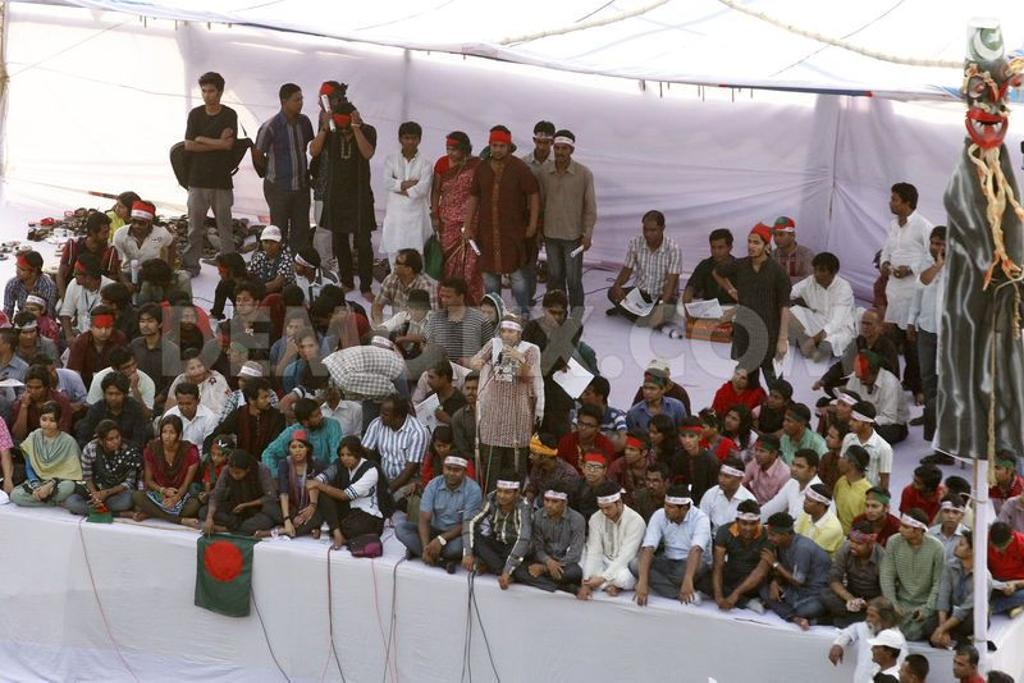face: (444, 462, 464, 485), (865, 497, 884, 521), (441, 289, 460, 313), (942, 505, 962, 526), (791, 459, 811, 480), (719, 468, 739, 489), (92, 319, 112, 340), (178, 395, 197, 417), (853, 360, 871, 383), (739, 517, 758, 538), (140, 313, 159, 334), (490, 139, 509, 160), (498, 483, 516, 505), (236, 292, 254, 314), (954, 657, 972, 679), (642, 381, 661, 401), (748, 235, 766, 256), (544, 494, 562, 515), (547, 307, 565, 328), (300, 339, 318, 360), (585, 461, 603, 481), (40, 413, 58, 433), (535, 134, 552, 155), (287, 321, 303, 343), (953, 537, 971, 556), (850, 535, 868, 554), (105, 388, 123, 407), (103, 432, 121, 451), (402, 133, 420, 152), (890, 194, 907, 214), (644, 224, 661, 244), (578, 417, 595, 437), (465, 381, 482, 401), (290, 442, 307, 462), (255, 390, 272, 410), (188, 361, 205, 381), (20, 327, 37, 347), (554, 141, 571, 161), (647, 473, 663, 494), (481, 305, 497, 326), (867, 609, 882, 631), (774, 228, 791, 247), (711, 242, 728, 261), (665, 500, 682, 519), (501, 326, 518, 345), (340, 449, 357, 468), (41, 366, 58, 385), (286, 95, 303, 114), (871, 642, 887, 662), (202, 85, 218, 105), (899, 520, 916, 538), (930, 238, 946, 257), (862, 316, 878, 335), (804, 495, 820, 514), (783, 414, 799, 433), (681, 431, 697, 450), (625, 443, 641, 462), (581, 389, 597, 408), (428, 372, 444, 391), (181, 310, 197, 329), (133, 214, 149, 233), (992, 461, 1007, 481), (381, 406, 396, 426), (768, 391, 785, 408), (307, 411, 324, 428), (227, 346, 244, 363), (446, 144, 463, 161), (409, 303, 425, 321), (162, 427, 178, 445), (27, 381, 43, 399), (836, 398, 851, 417), (755, 445, 770, 464), (599, 503, 618, 518), (120, 359, 135, 378), (73, 265, 87, 285), (768, 530, 785, 546), (263, 236, 279, 253), (529, 447, 544, 465), (95, 226, 110, 244), (734, 370, 748, 389), (26, 305, 40, 324), (899, 664, 913, 683), (815, 265, 830, 282), (394, 257, 408, 275), (218, 267, 233, 283), (17, 262, 32, 278), (839, 454, 853, 471), (319, 96, 333, 113), (850, 414, 863, 432), (939, 488, 954, 503), (435, 442, 451, 456), (230, 466, 246, 480), (212, 448, 226, 464), (176, 302, 190, 318), (650, 426, 663, 443), (317, 316, 334, 329), (912, 477, 924, 495), (698, 423, 712, 438), (827, 431, 839, 448), (727, 413, 739, 430), (339, 121, 353, 135), (993, 543, 1010, 554), (296, 260, 308, 275), (102, 298, 113, 314), (116, 201, 127, 216), (1, 337, 9, 355)
